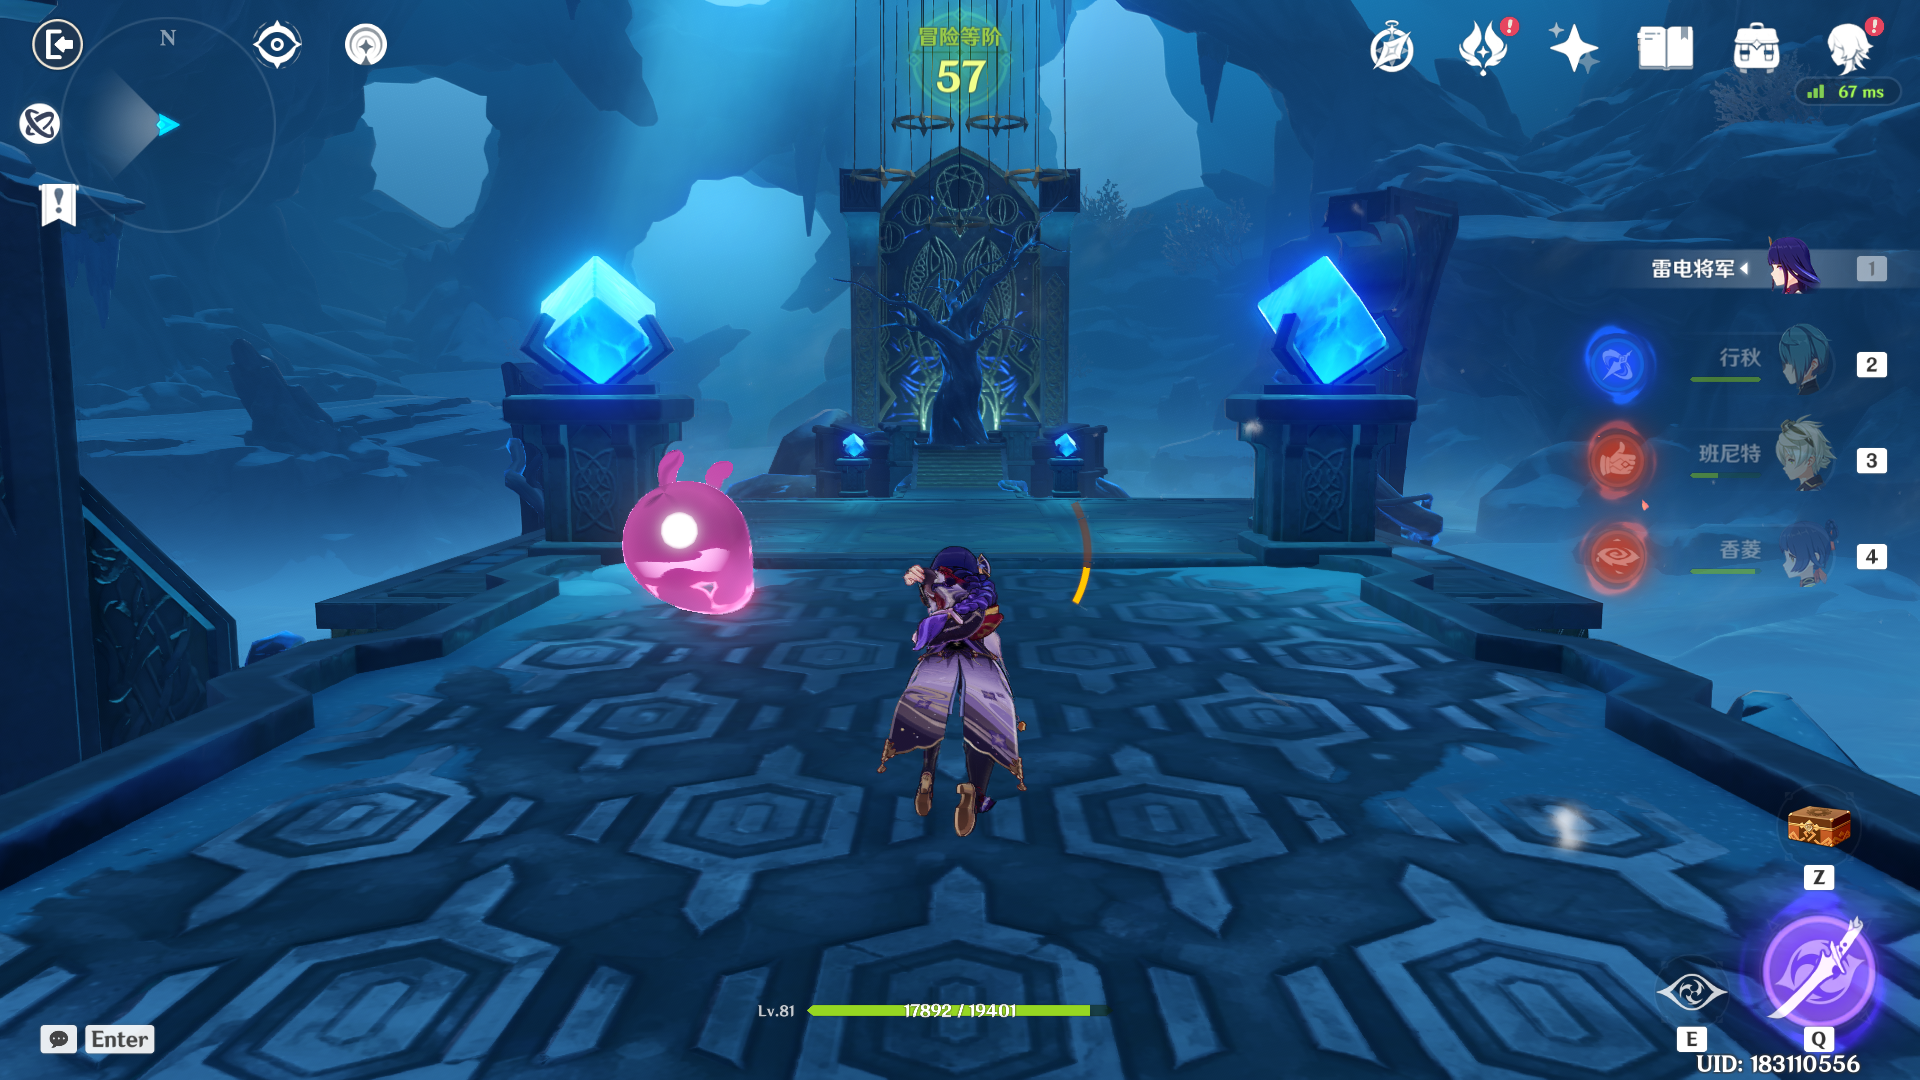character: (816, 516, 1077, 862)
